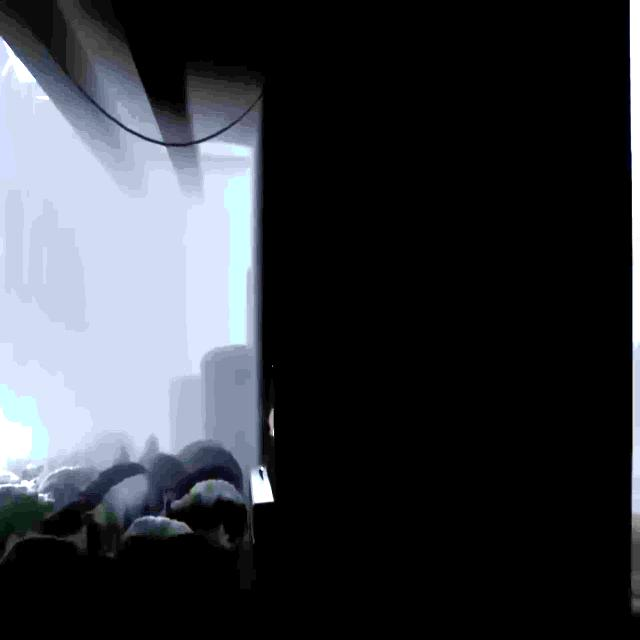boy: (258, 395, 274, 481)
